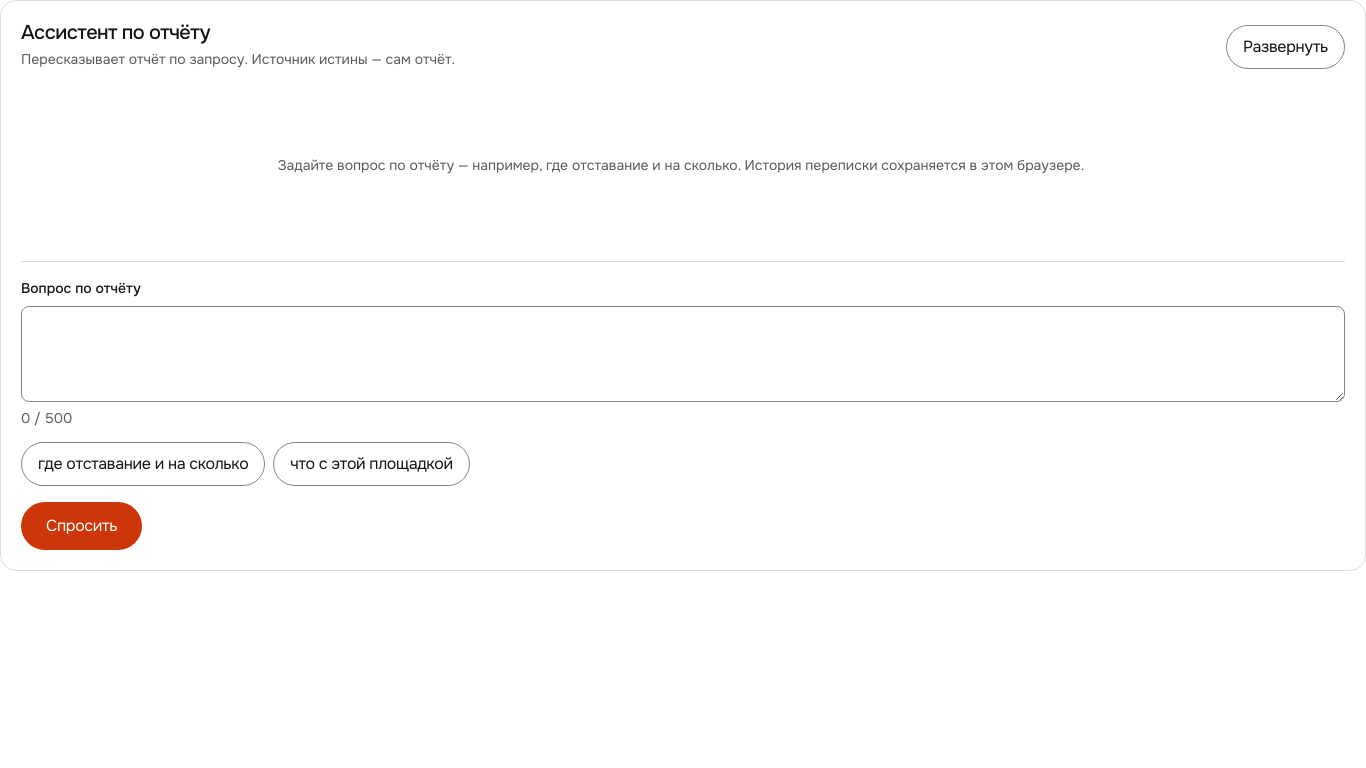
Test: AssistantPanel › Success flow › показывает alert когда ответ не прошёл проверку
Expected: the heading "Ассистент по отчёту" is shown, 21,20 -> 210,45
Click the text box labelled "Вопрос по отчёту": click(683, 354) 21,306 -> 1345,402
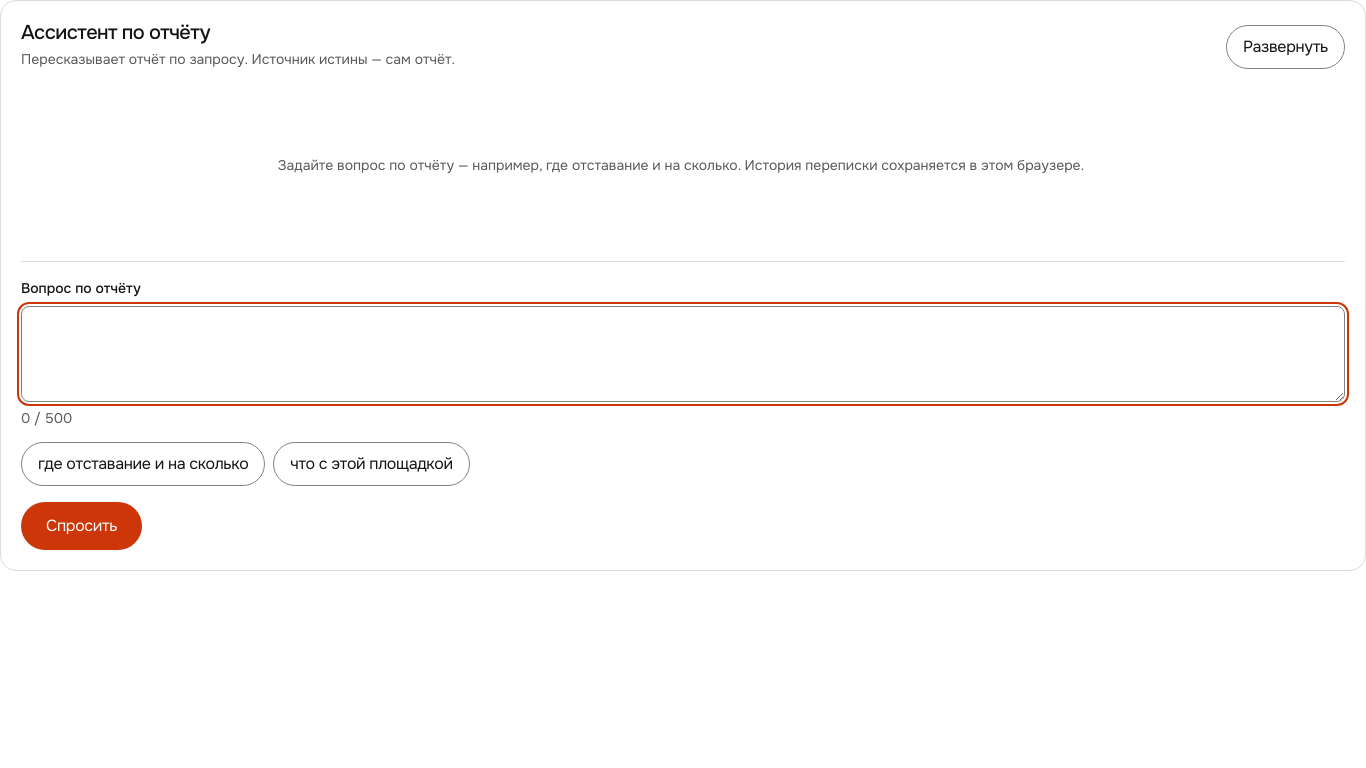
Type keys "Где отставание?"
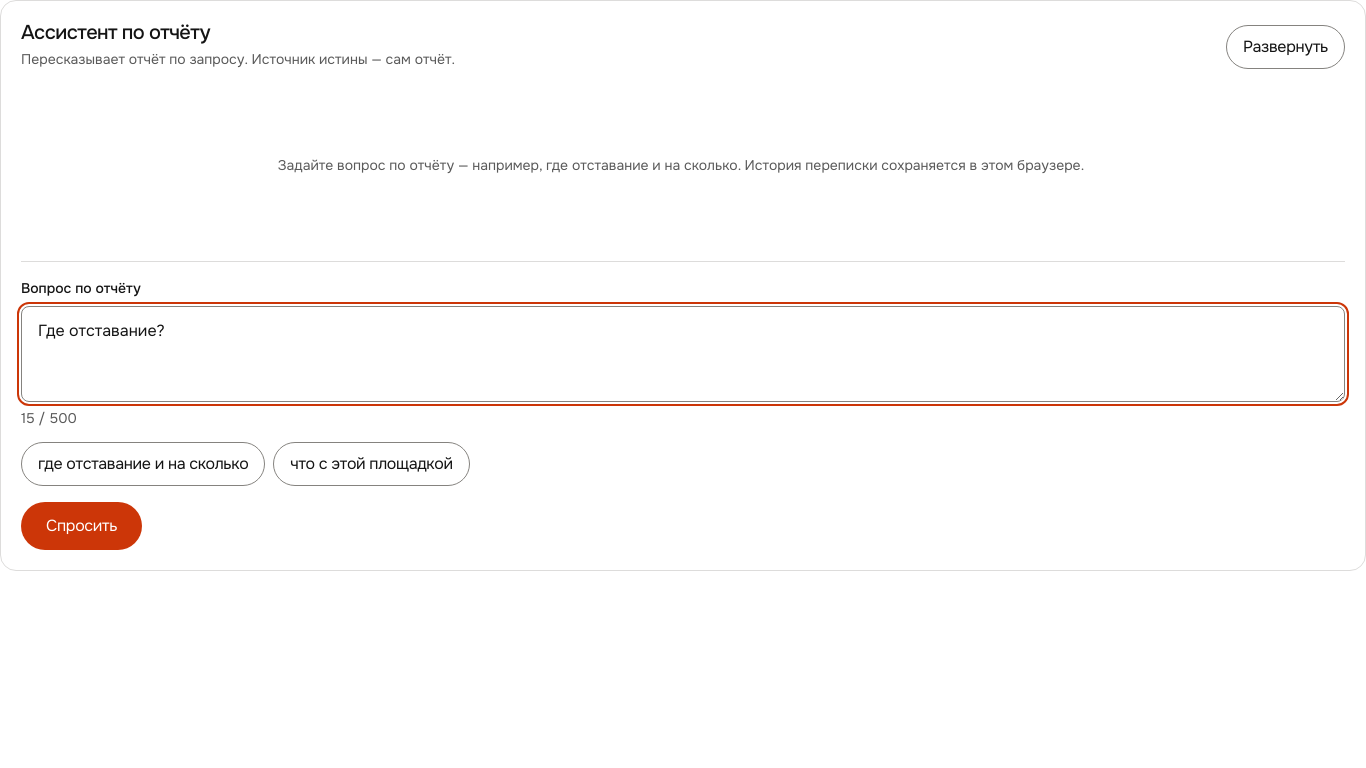
Click the button "Спросить": click(82, 526) 21,502 -> 142,550
(page scrolled)
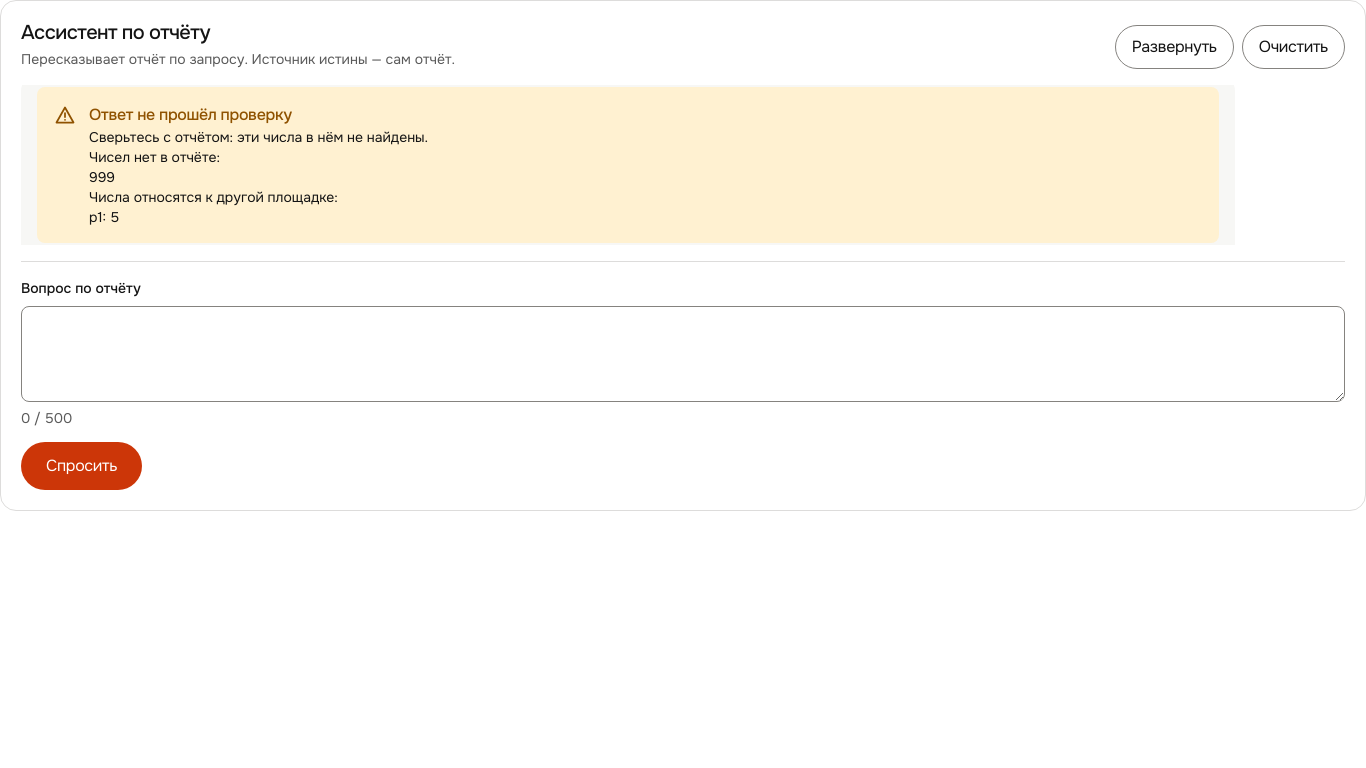
Expected: the message shows "Ответ не прошёл проверку", 89,104 -> 292,125
Expected: the message shows "999", 89,168 -> 115,186
Expected: the message shows "p1: 5", 89,208 -> 119,226
